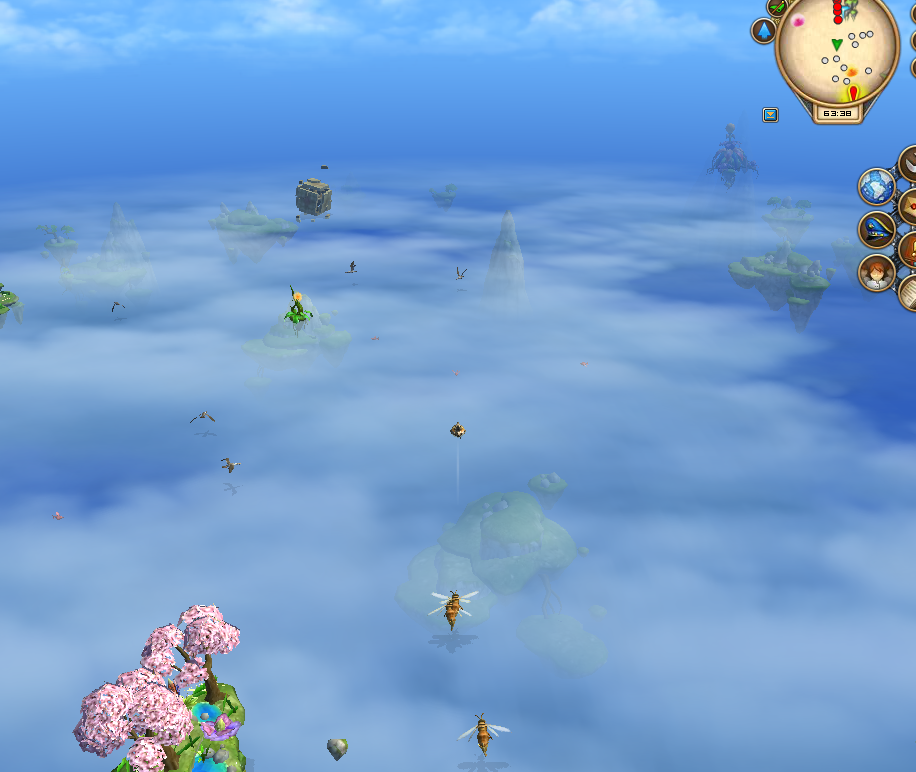dandelion-full: (280, 282, 317, 336)
